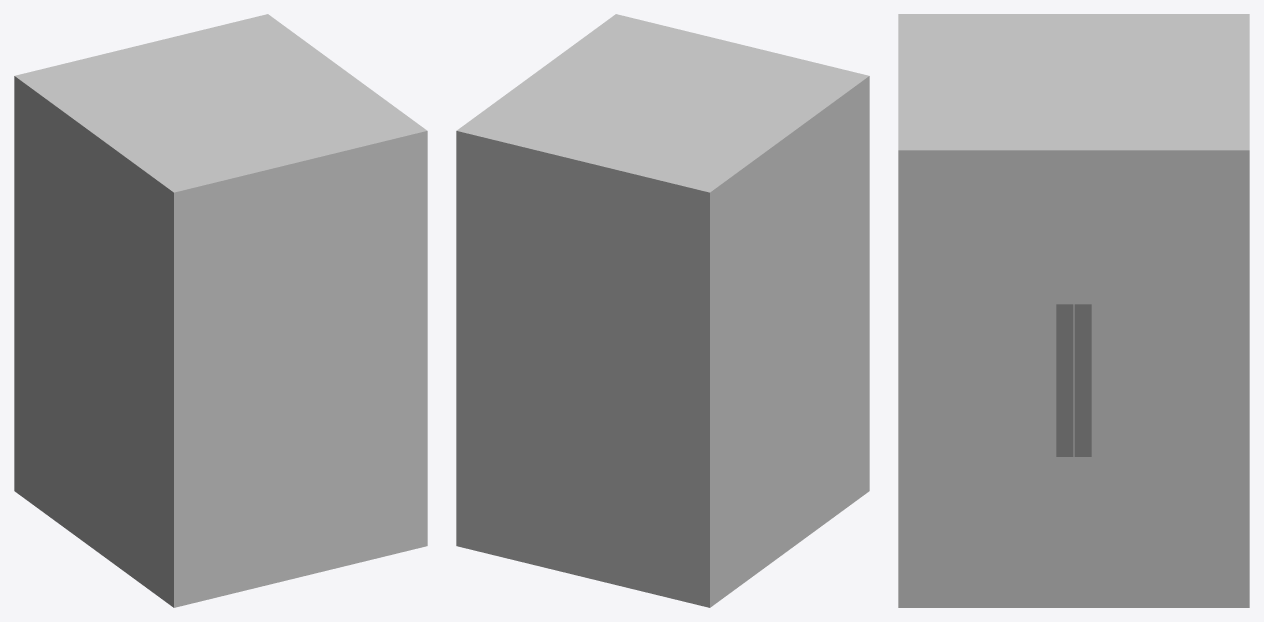
Rendered from closet.FBX.
The picture shows the model from 3 angles, left to right: view 1: azimuth 30°, elevation 25°; view 2: azimuth 150°, elevation 25°; view 3: azimuth 270°, elevation 25°; orthographic projection. The views are drawn at different scales.
Visible parts, largest first — view 1: closet; view 2: closet; view 3: closet.
Boxes of the visible parts, left/top/right/bottom form: closet: left=14, top=14, right=427, bottom=607; closet: left=456, top=14, right=869, bottom=607; closet: left=898, top=14, right=1249, bottom=607.
Bounding box in the file's own units: 10.68 × 16.54 × 11.52.
